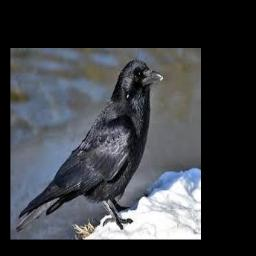Crow: (15, 59, 163, 233)
